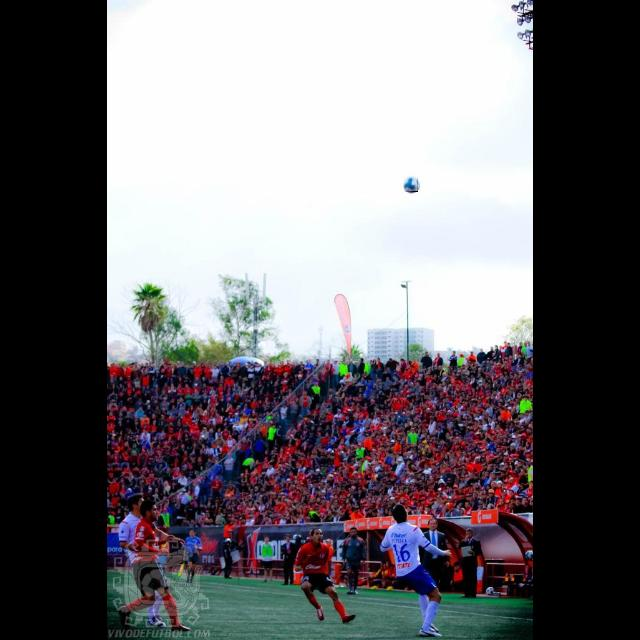Football: (404, 176, 418, 192)
